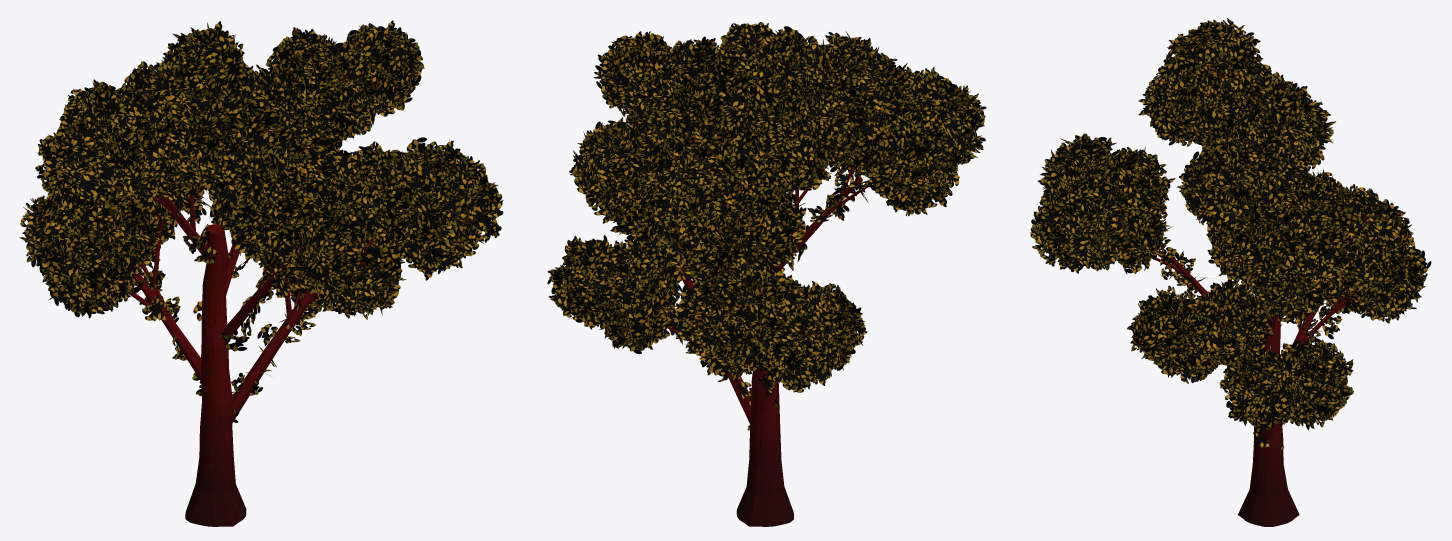
Rendered from oak_broadleaf_v03.glb.
3 renders of one model, left to right at view 1: azimuth 30°, elevation 25°; view 2: azimuth 150°, elevation 25°; view 3: azimuth 270°, elevation 25°, orthographic. The views are drawn at different scales.
Parts seen in each view (by area): view 1: oak_broadleaf_v03; view 2: oak_broadleaf_v03; view 3: oak_broadleaf_v03.
Boxes of the visible parts, x1,y1,x2,y2 form: oak_broadleaf_v03: (19,20,503,526); oak_broadleaf_v03: (547,22,986,526); oak_broadleaf_v03: (1030,18,1431,526).
Bounding box in the file's own units: 22.79 × 23.98 × 20.61.
2 materials, 2 textured.
